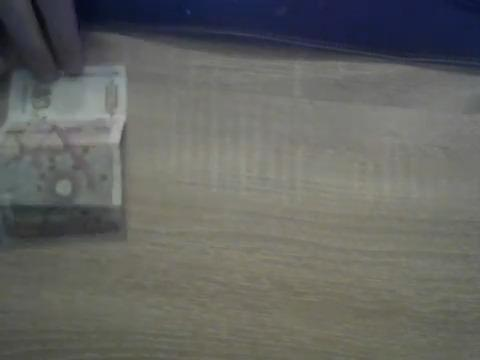10leva: (0, 65, 127, 238)
